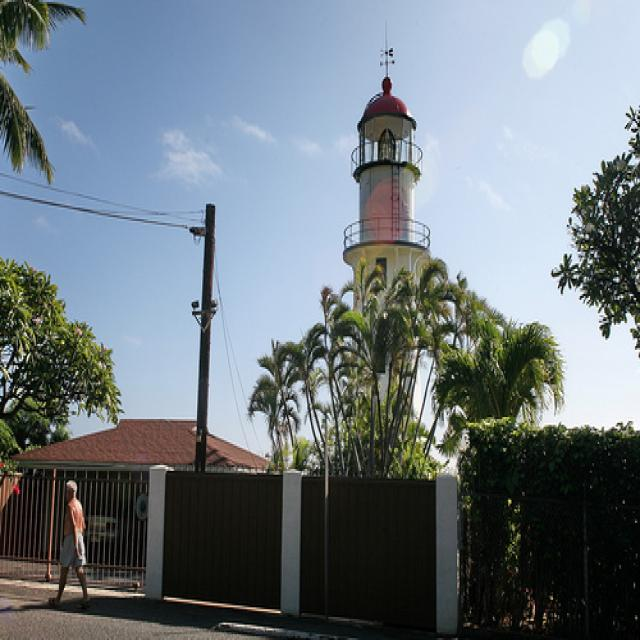Vehicle: (79, 498, 120, 543)
